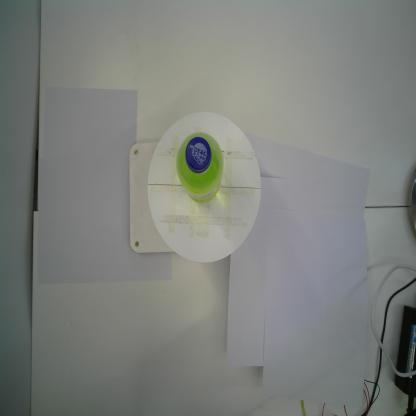Drink: (176, 130, 224, 206)
